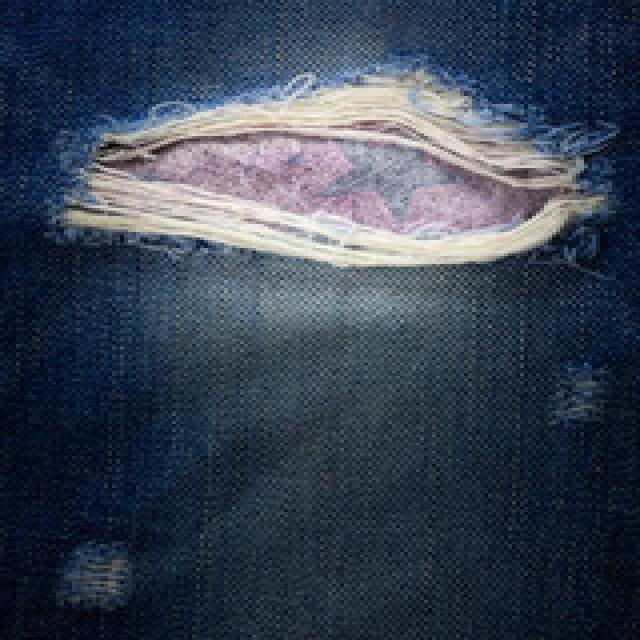Hole: (63, 60, 616, 267), (57, 544, 128, 610), (556, 363, 609, 424)
